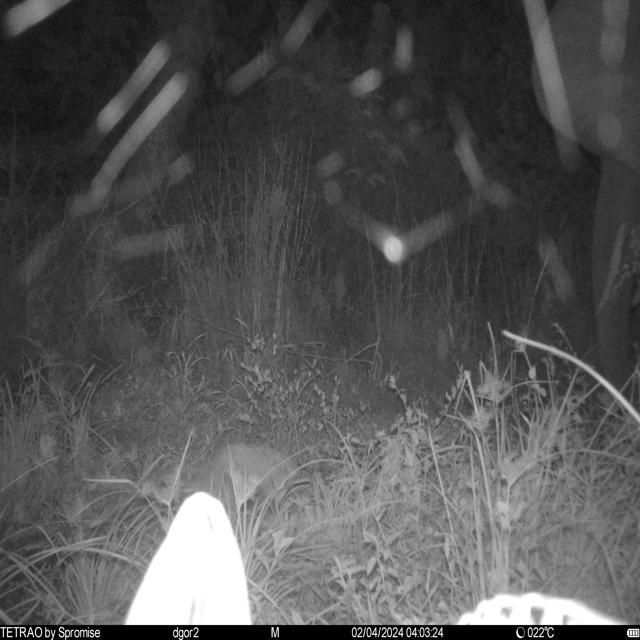ear: (531, 1, 640, 170)
elephant: (532, 0, 640, 393)
tusk: (598, 222, 628, 316)
